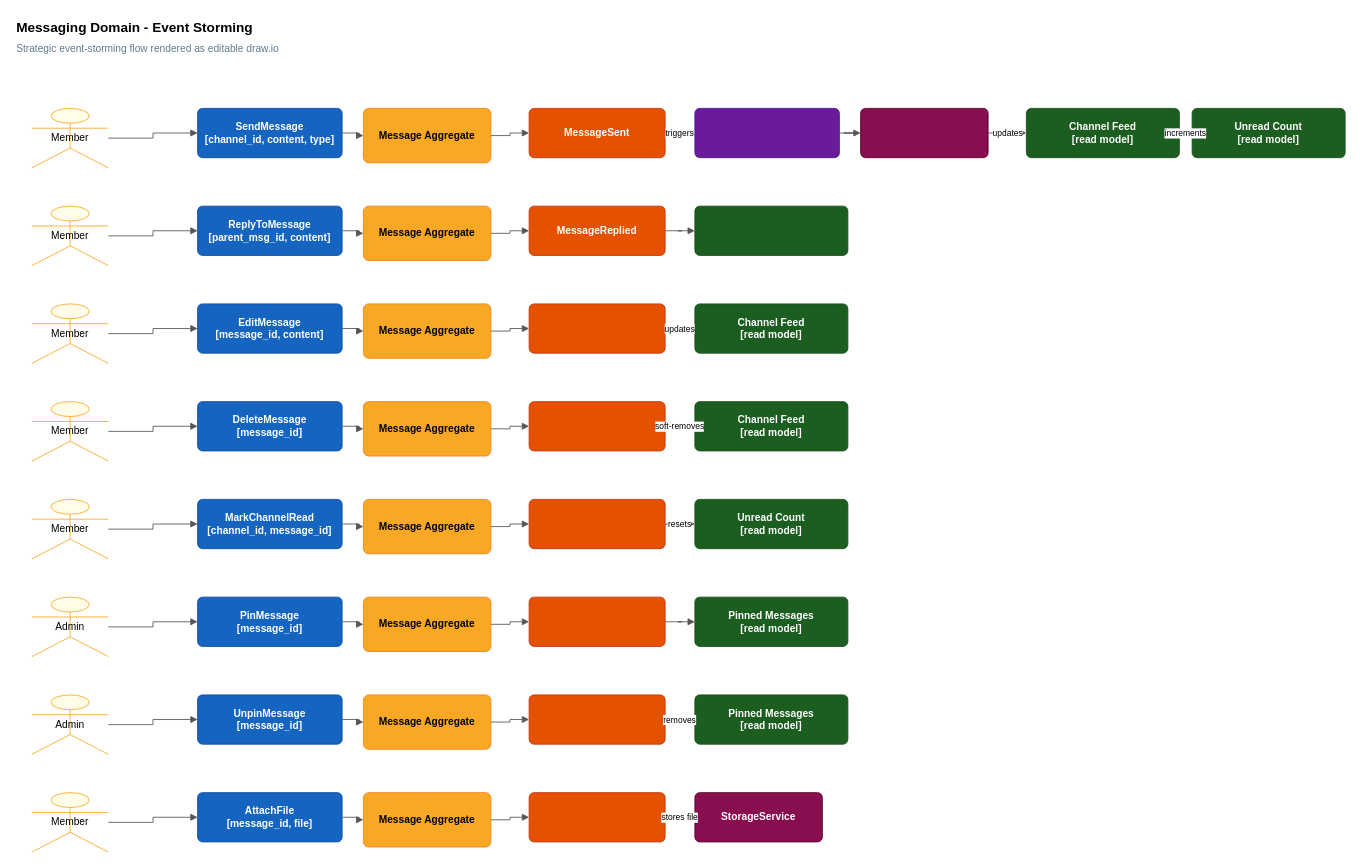
The diagram is 1360 pixels wide and 867 high, and some of its shapes have lost their labels. Each missing label, with the centre of its shape:
"ChannelMarkedRead" belongs at [596,524].
"FileAttached" belongs at [596,817].
"MessageDeleted" belongs at [596,426].
"MessageEdited" belongs at [596,328].
"MessagePinned" belongs at [596,621].
"MessageUnpinned" belongs at [596,719].
"NotifyChannelMembers" belongs at [766,133].
"PushNotification Service" belongs at [924,133].
"Thread View [read model]" belongs at [771,230].
